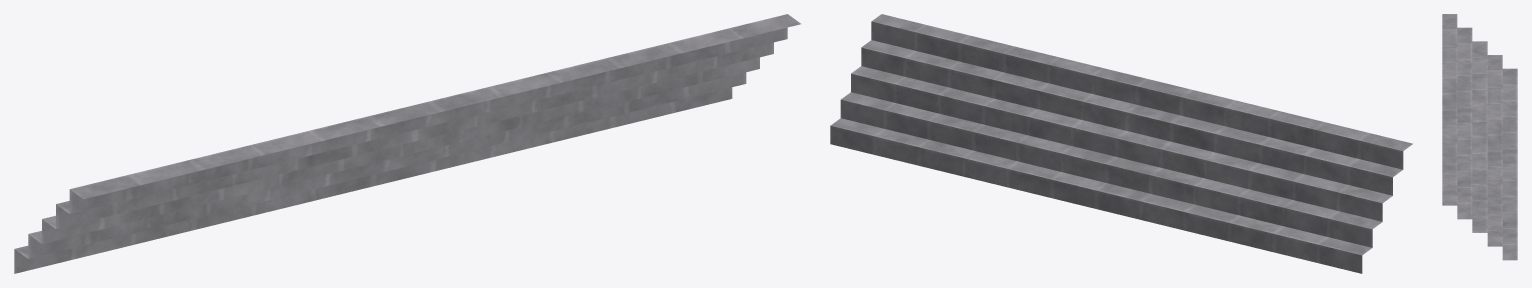
File: Stair_1h_A.fbx
3 renders of one model, left to right at view 1: azimuth 30°, elevation 25°; view 2: azimuth 150°, elevation 25°; view 3: azimuth 270°, elevation 25°, orthographic. The views are drawn at different scales.
Parts seen in each view (by area): view 1: Stair_1h_A; view 2: Stair_1h_A; view 3: Stair_1h_A.
Boxes of the visible parts, x1=… form: Stair_1h_A: x1=14, y1=14, x2=800, y2=273; Stair_1h_A: x1=830, y1=14, x2=1412, y2=273; Stair_1h_A: x1=1442, y1=14, x2=1517, y2=260.
Size of the model in its own units: 6 by 1 by 1.
